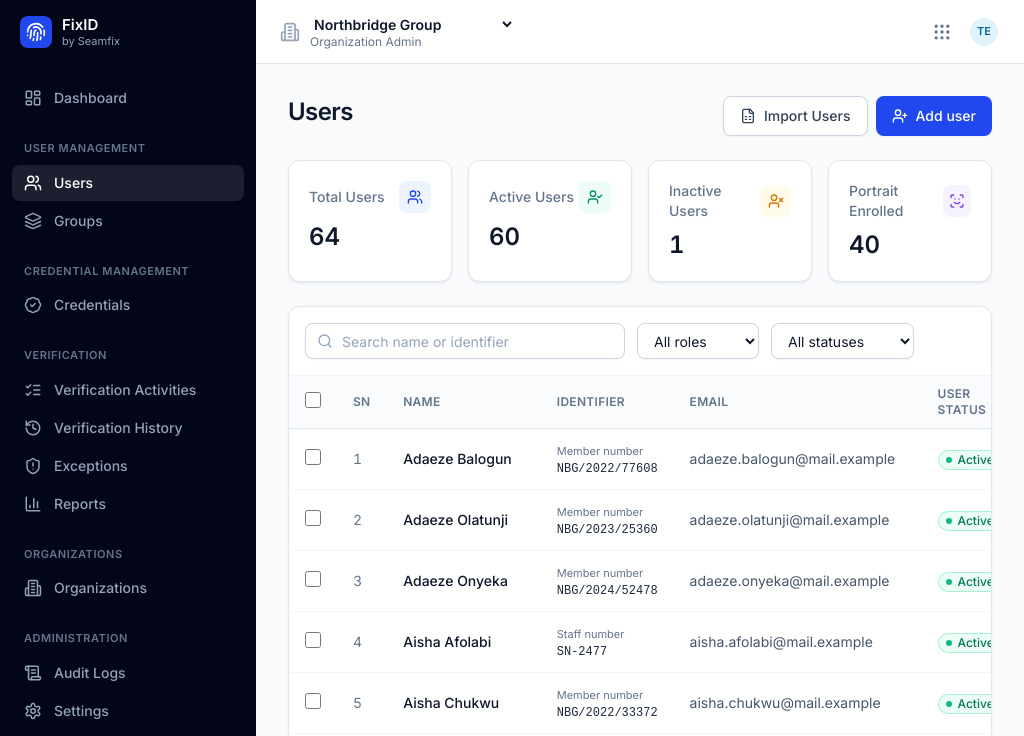
Test: Users page › numbers rows across pages and selects the visible page with select-all
Expected: the cell "1" is shown, [337, 428, 387, 490]
Click the checkbox named "Select all users on this page" at (313, 400), box [305, 392, 321, 408]
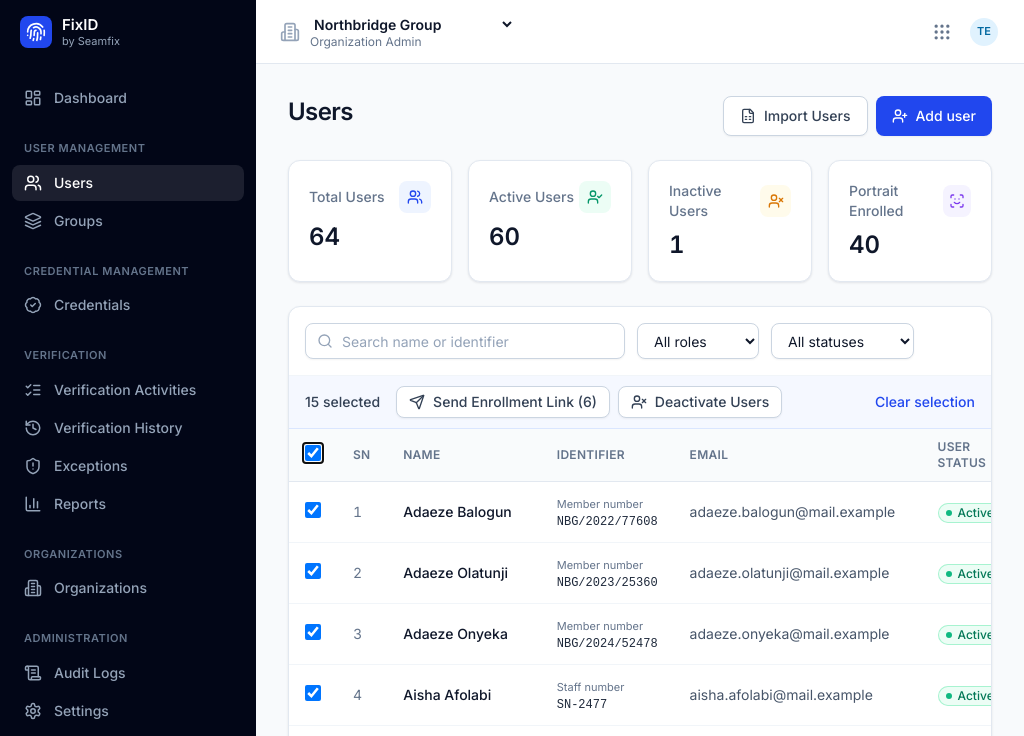
Click the checkbox named "Select Adaeze Balogun" at (313, 510), box [305, 502, 321, 518]
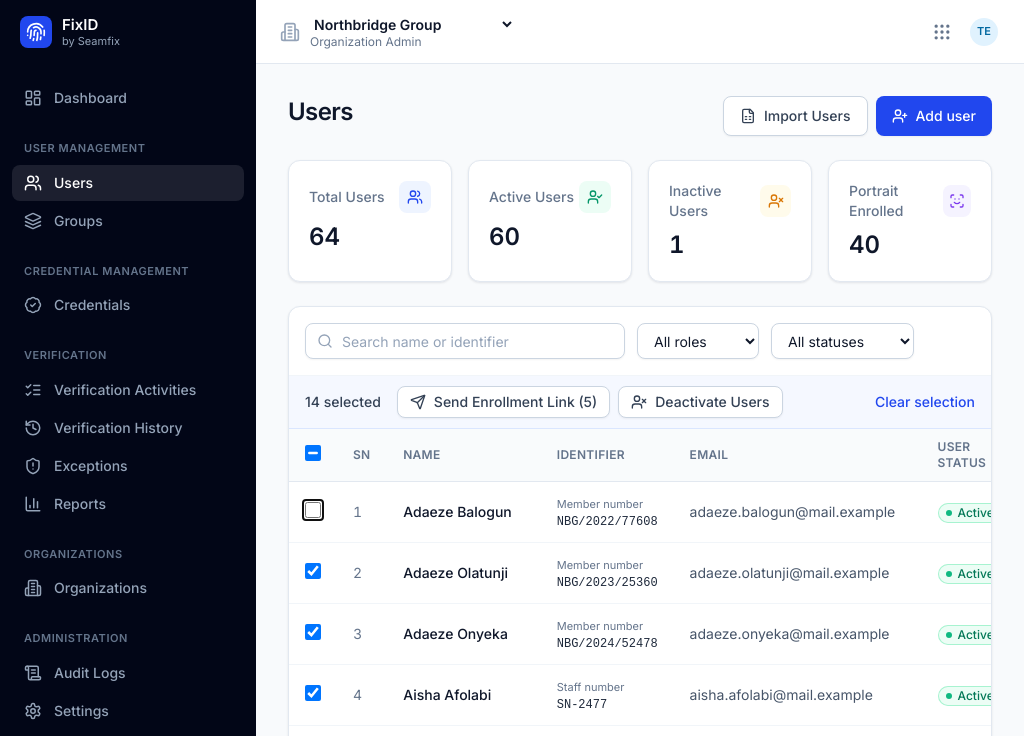
Click the checkbox named "Select all users on this page" at (313, 453), box [305, 445, 321, 461]
(page scrolled)
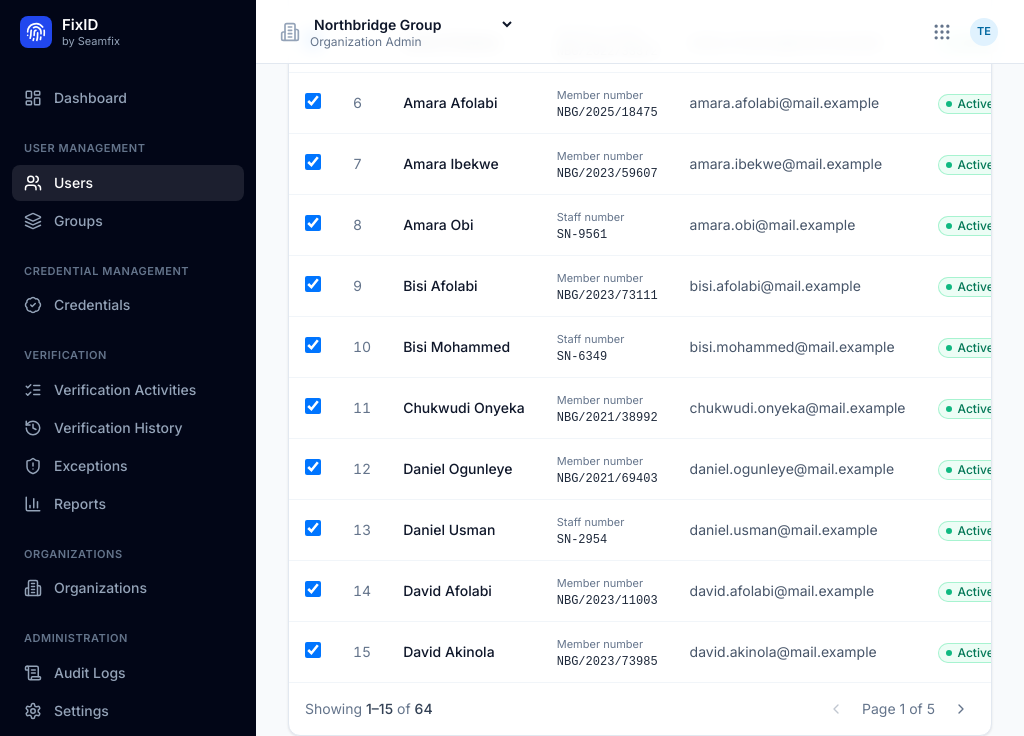
Click the button named "next page" at (961, 709), box [947, 695, 975, 723]
(page scrolled)
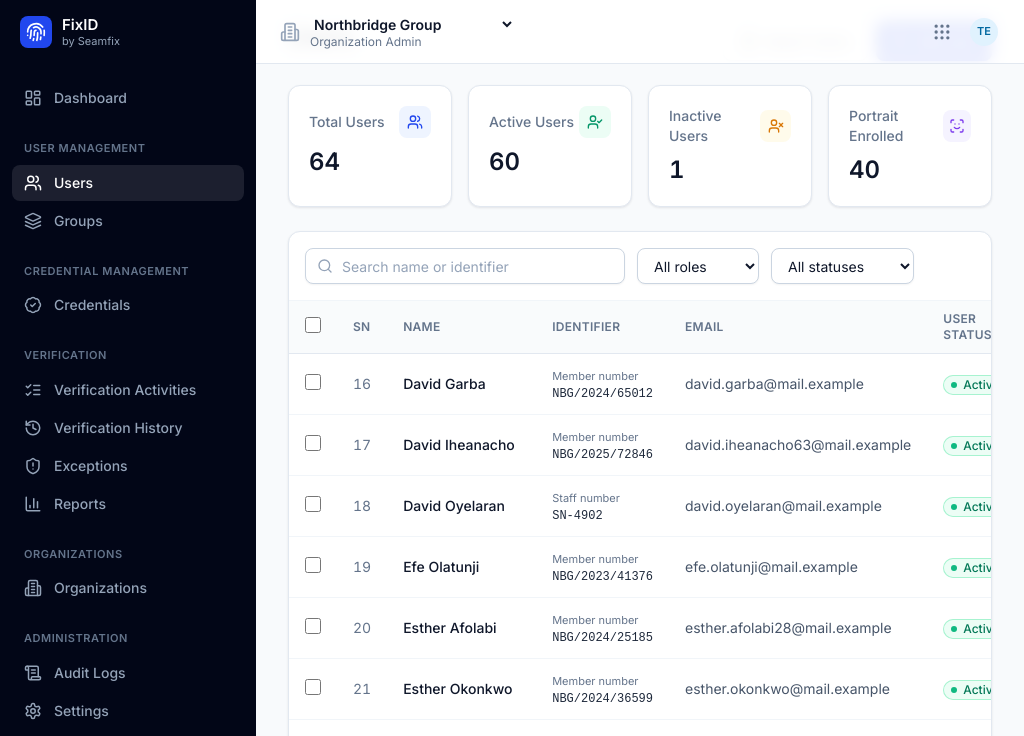
Expected: the text "selected" is not shown
Expected: the cell "16" is shown, [337, 354, 387, 414]
